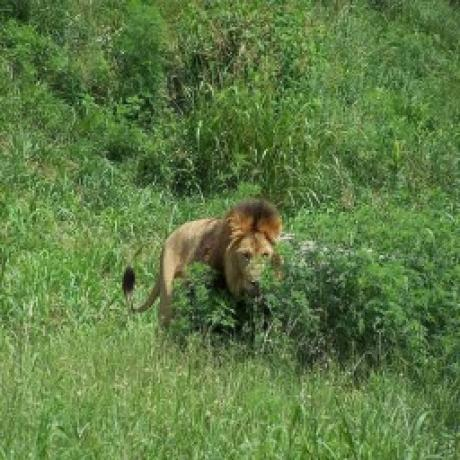Lion: (120, 194, 285, 345)
